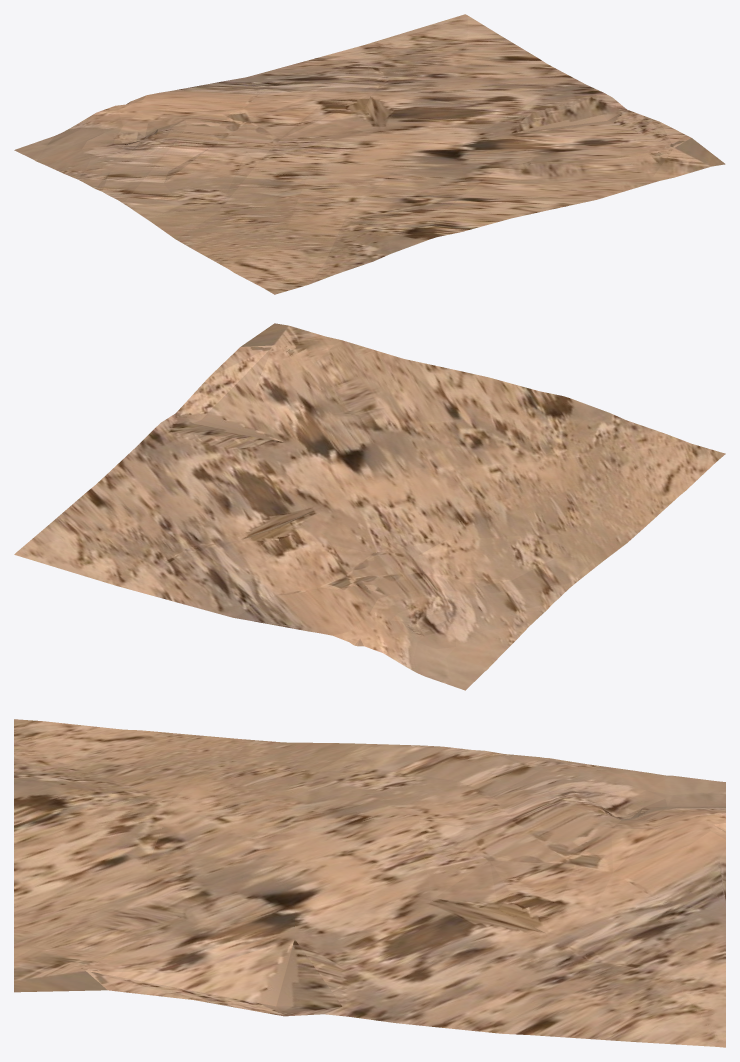
3 views of the same model, one above another, from view 1: azimuth 30°, elevation 25°; view 2: azimuth 150°, elevation 25°; view 3: azimuth 270°, elevation 25° (orthographic). The views are drawn at different scales.
Size of the model in its own units: 2.09 by 0.3085 by 2.09.
2 materials, 2 textured.
